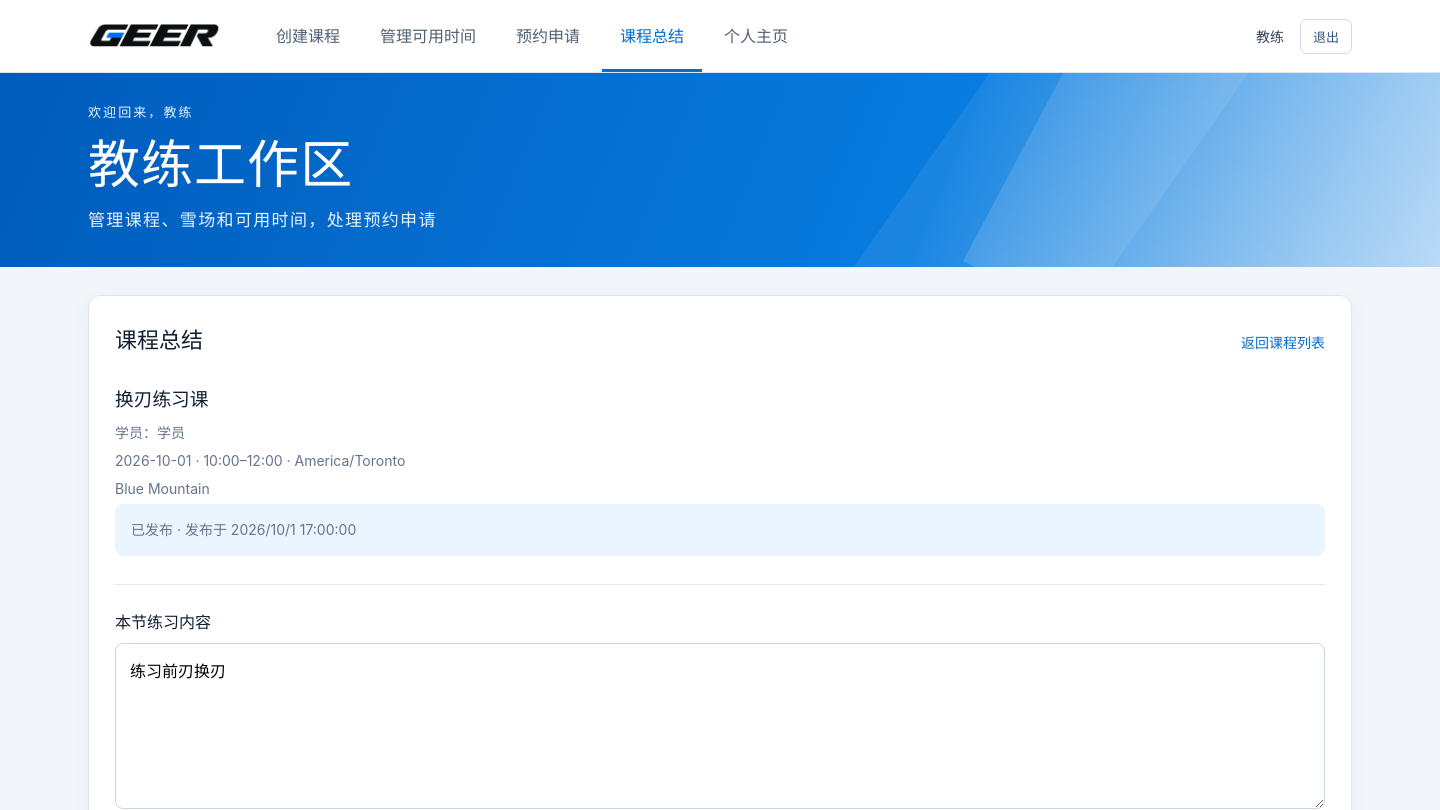
Test case: guards unsaved coach content when navigating tabs or browser history
Type "未保存的内容" into the text box labelled "本节练习内容" at (720, 726), box [115,643,1325,809]
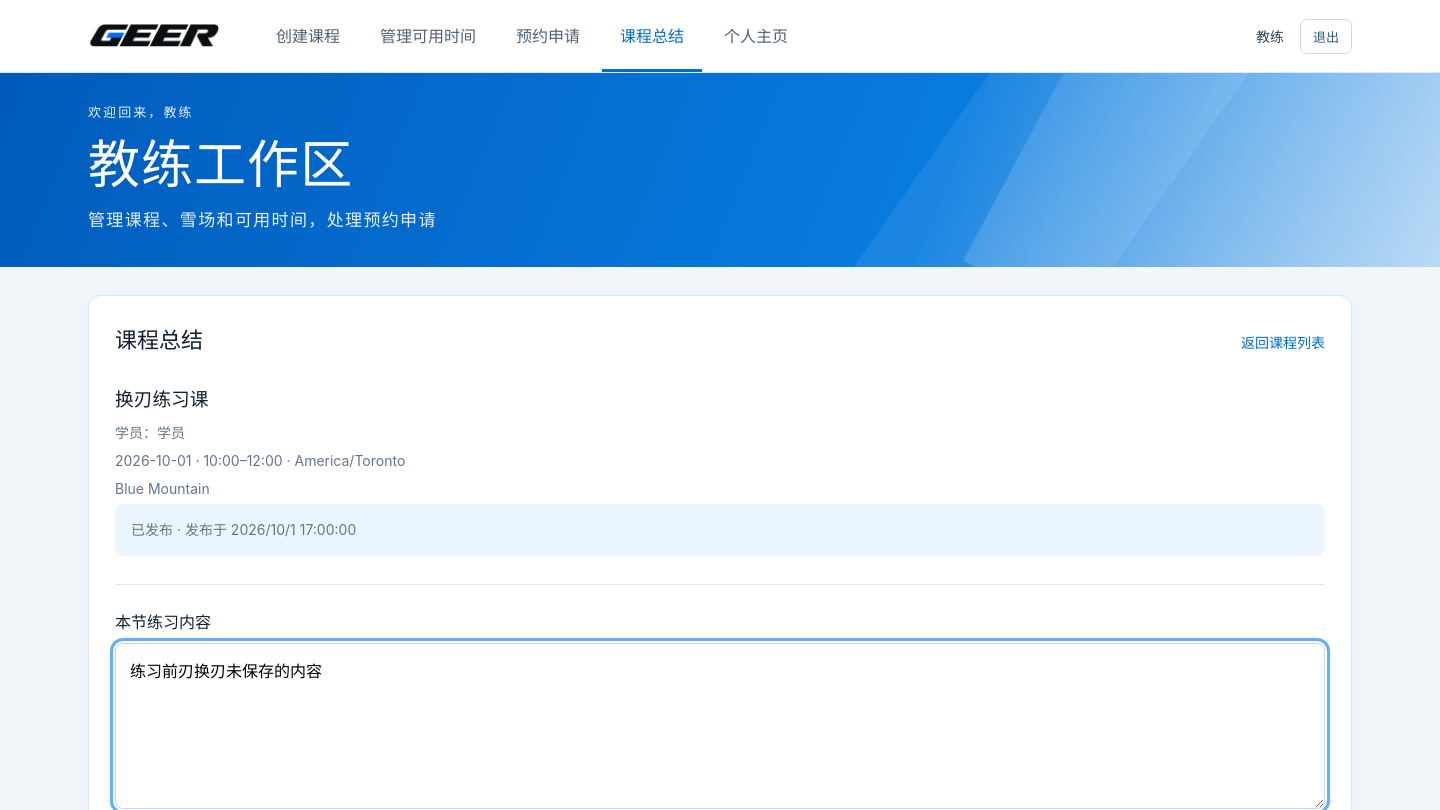
Click the button "创建课程" at (308, 36), box [258,0,358,72]
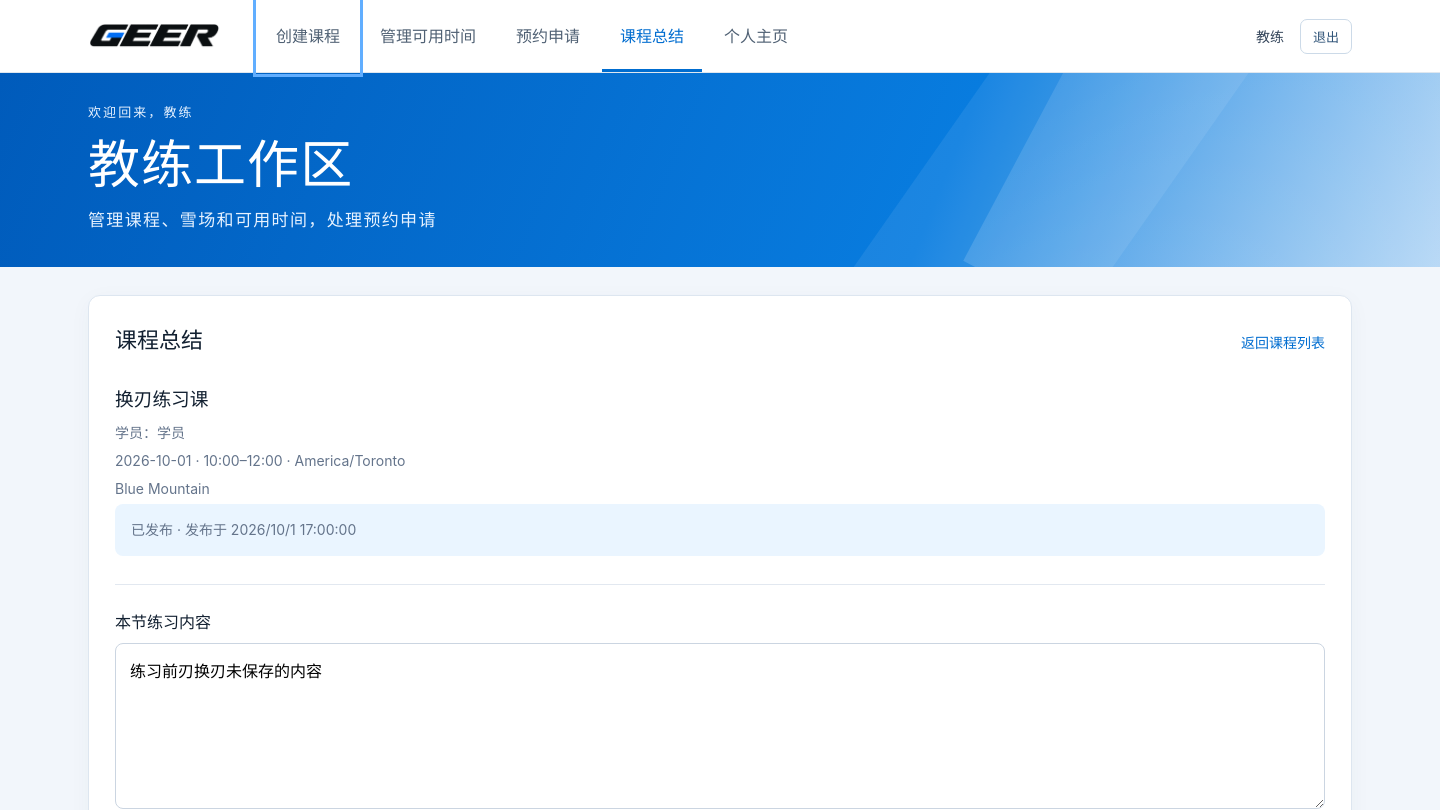
Expected: the text box labelled "本节练习内容" is shown, [115,643,1325,809]
Click the button "创建课程" at (308, 36), box [258,0,358,72]
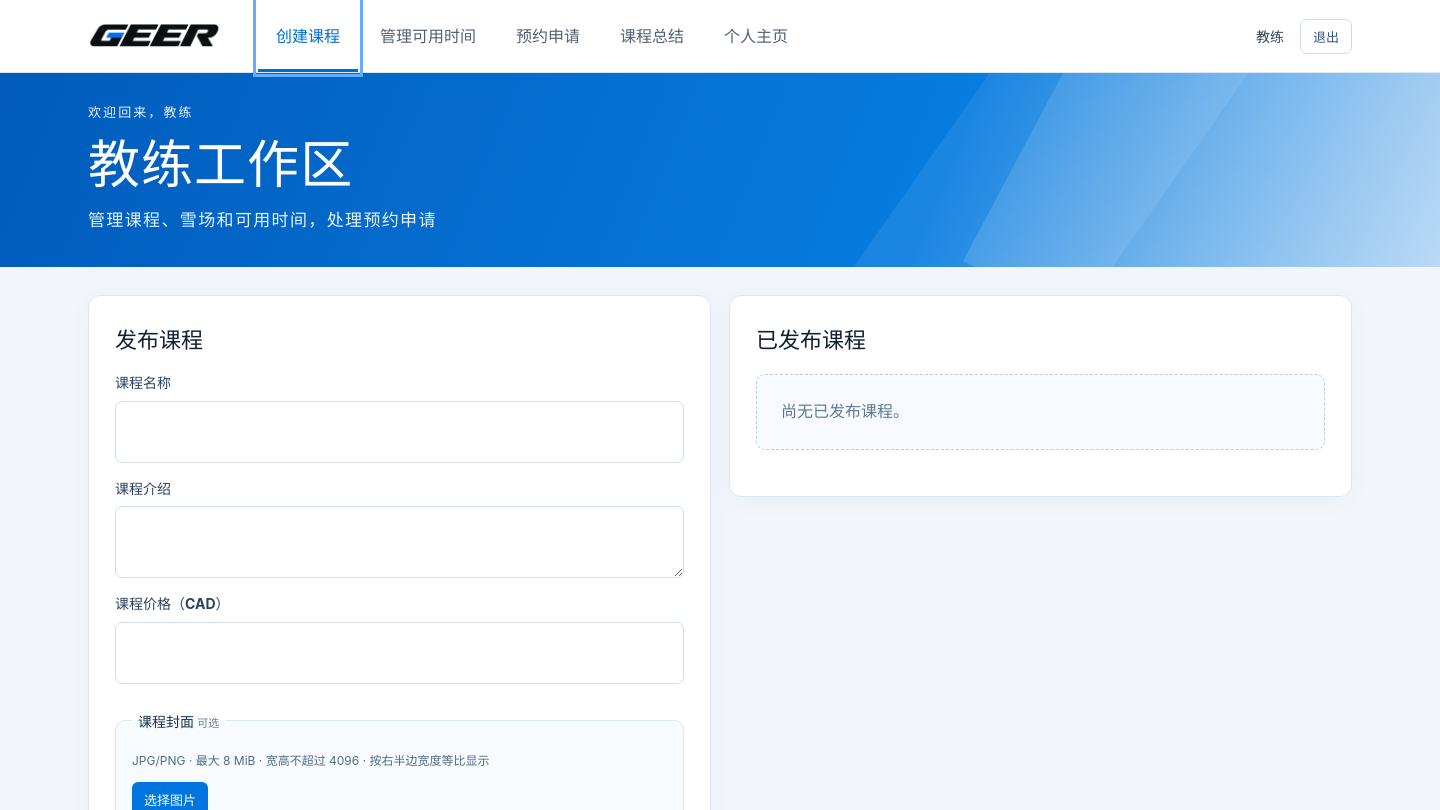
Expected: the heading "发布课程" is shown, [115,327,203,353]
Expected: the label labelled "本节练习内容" is gone
